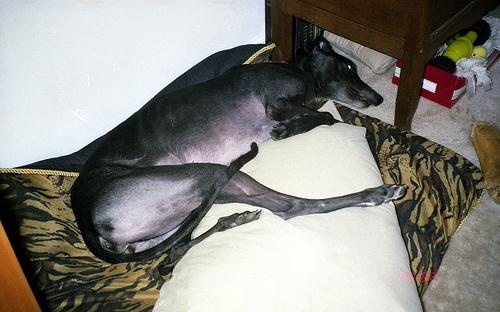dog: (72, 35, 409, 264)
